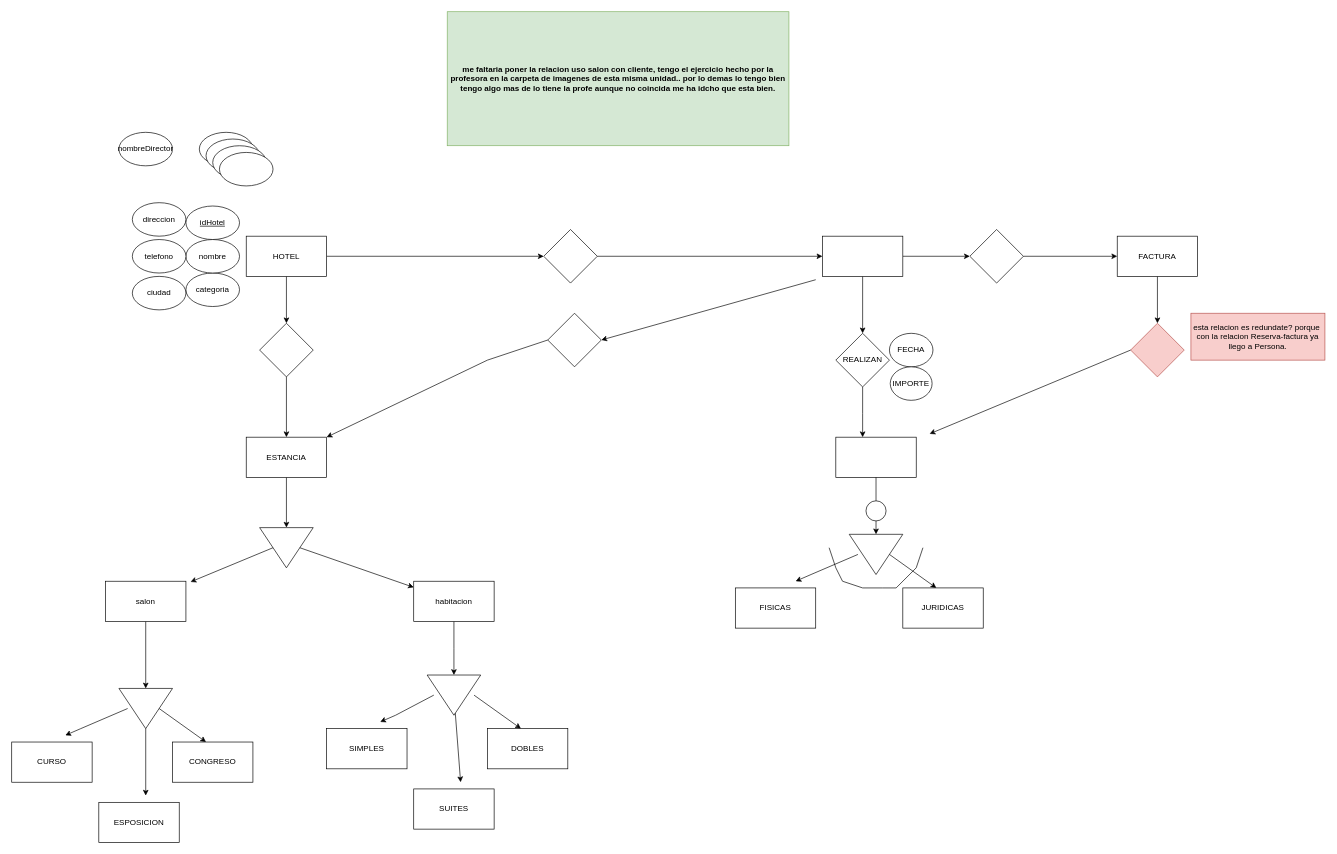
Image size: 1337x854. Some labels were removed from this diagram. Each missing label, with the centre of its shape:
genera: point 996,256
HACE: point 570,256
PERSONA: point 875,457
pertenece: point 1157,350
RESERVA: point 862,256
son: point 574,340
tiene: point 286,350
